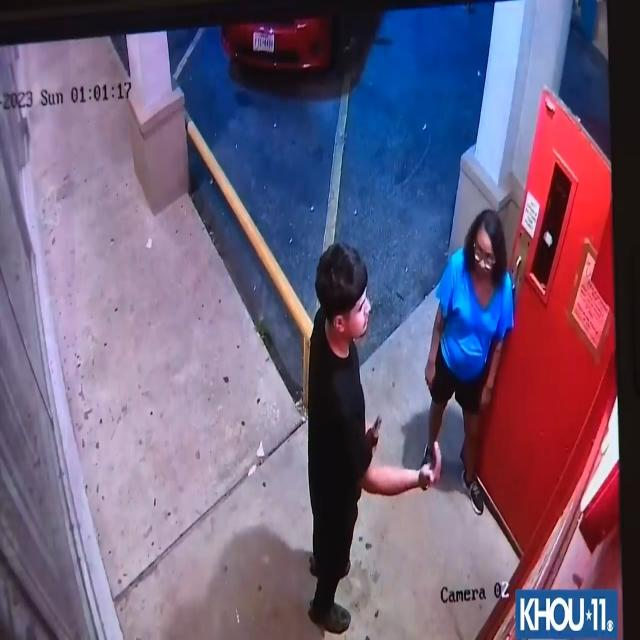Person: (297, 238, 440, 640), (419, 170, 513, 517)
